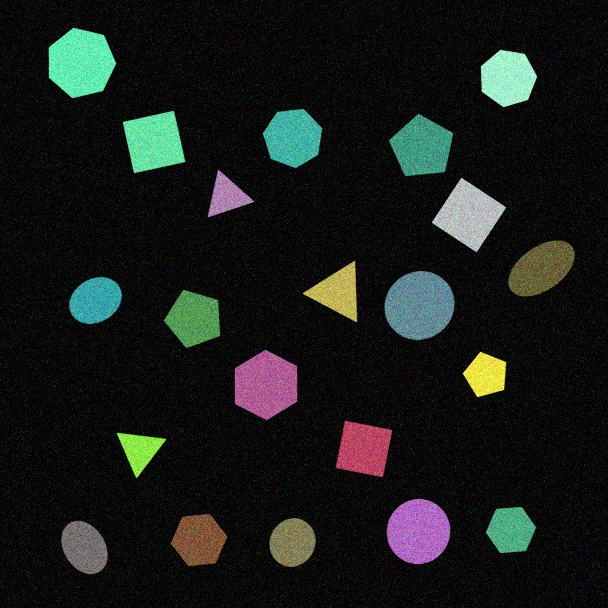Circulo: (384, 270, 455, 341), (386, 498, 451, 565), (269, 517, 316, 568)
Elipse: (507, 240, 576, 297), (68, 276, 123, 325), (60, 520, 109, 575)
Heptagono: (48, 27, 117, 99), (262, 108, 323, 169), (480, 49, 538, 108)
Hexagono: (234, 349, 298, 421), (170, 513, 228, 567), (485, 506, 537, 554)
Pentagono: (388, 113, 454, 177), (163, 289, 221, 349), (462, 351, 507, 398)
Quadrado: (431, 177, 507, 253), (122, 110, 186, 174), (335, 420, 393, 478)
Triangulo: (303, 260, 358, 323), (116, 432, 167, 479), (207, 169, 255, 218)
